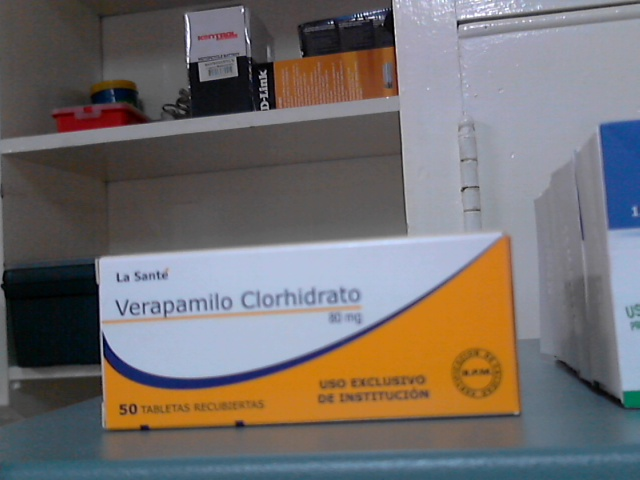LaSante: (103, 240, 517, 429)
